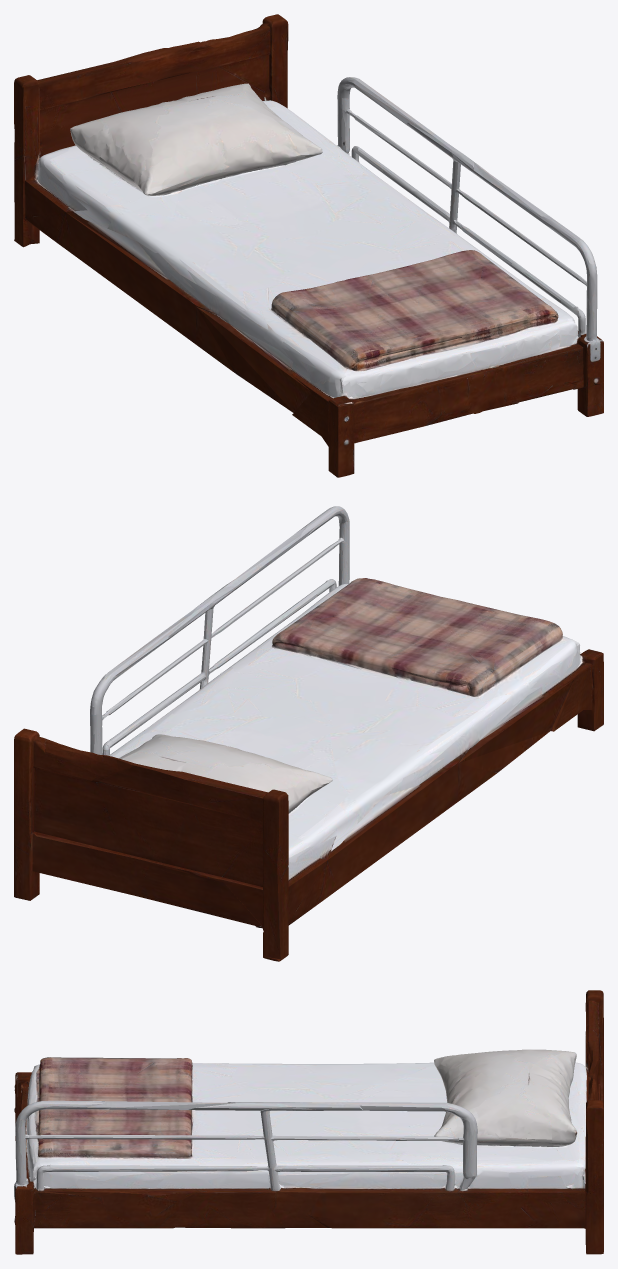
Rendered from w4bed.glb.
3 views of the same model, one above another, from view 1: azimuth 30°, elevation 25°; view 2: azimuth 150°, elevation 25°; view 3: azimuth 270°, elevation 25° (orthographic). The views are drawn at different scales.
Visible parts, largest first — view 1: output_unwrapped; view 2: output_unwrapped; view 3: output_unwrapped.
Part boxes in pixels (x1,y1,x2,y2): output_unwrapped: [14, 14, 603, 477]; output_unwrapped: [14, 506, 603, 961]; output_unwrapped: [14, 990, 603, 1254].
Size of the model in its own units: 0.95 by 0.5607 by 2.01.
Materials: 1 (1 with a texture image).
